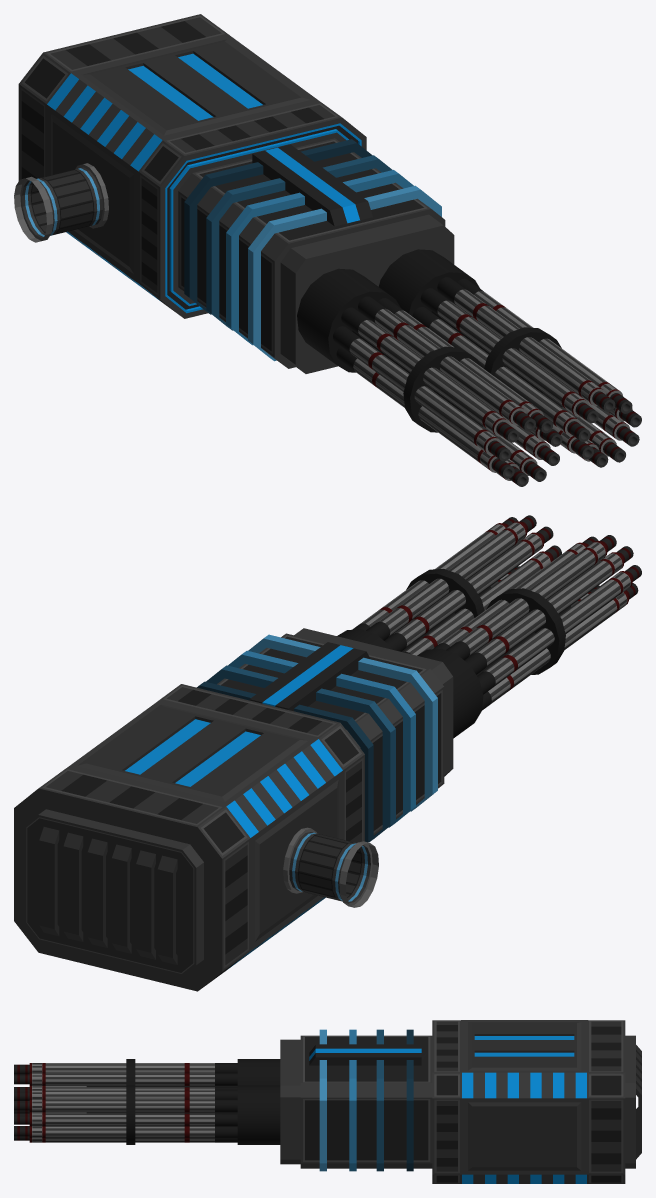
File: MGg.FBX
The picture shows the model from 3 angles, top to bottom: view 1: azimuth 30°, elevation 25°; view 2: azimuth 150°, elevation 25°; view 3: azimuth 270°, elevation 25°; orthographic projection. The views are drawn at different scales.
Parts seen in each view (by area): view 1: MGT; view 2: MGT; view 3: MGT.
Part boxes in pixels (x1,y1,x2,y2): MGT: (14,14,641,486); MGT: (14,515,641,991); MGT: (14,1020,641,1183).
Bounding box in the file's own units: 173 × 101 × 508.
